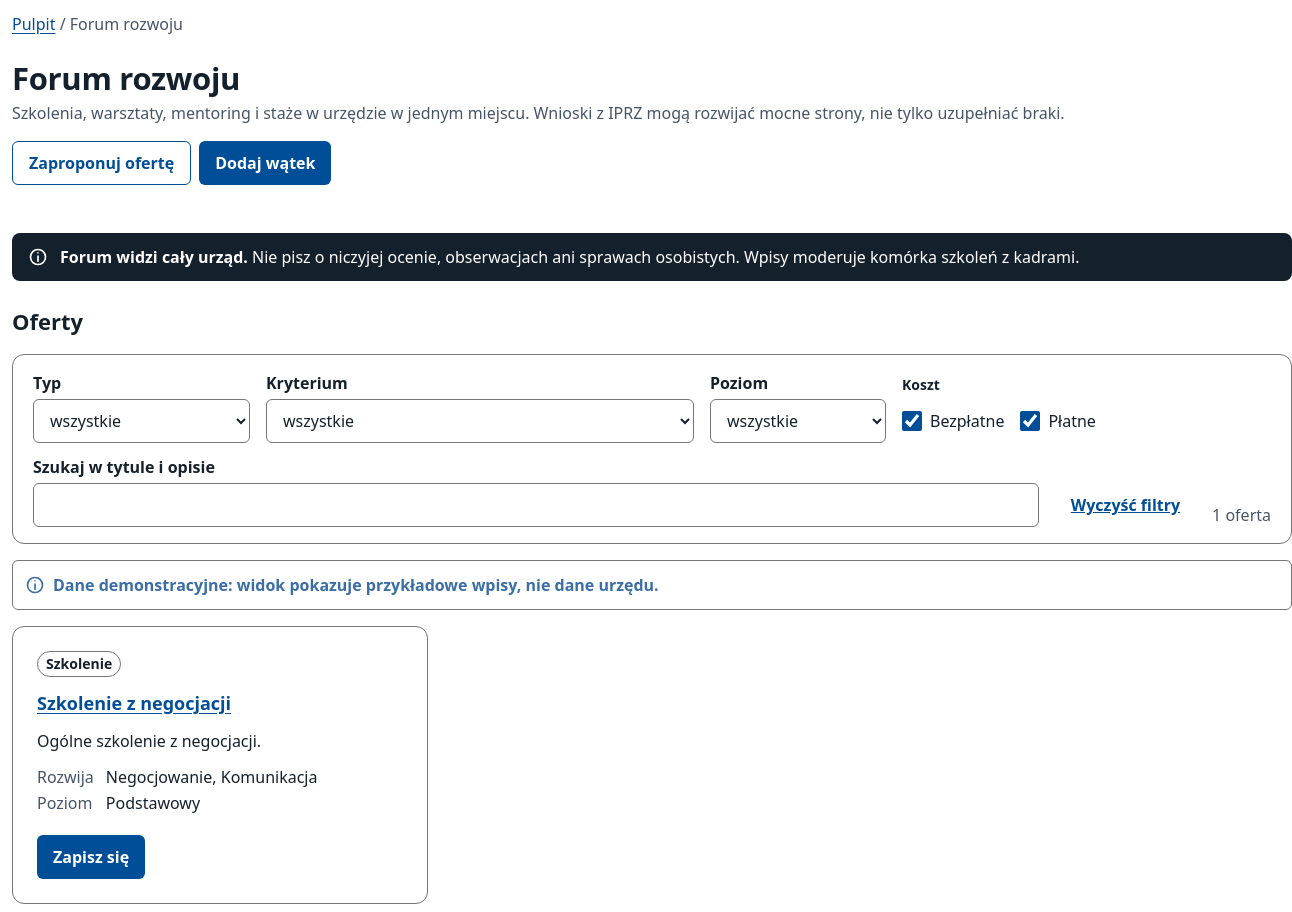
Test case: GrowthPage catalog › keeps the filters when an entry is opened and the user comes back
The width and height of the screenshot is (1292, 912).
Select "Szkolenie" in the dropdown labelled "Typ" at (142, 421), box [33, 399, 250, 443]
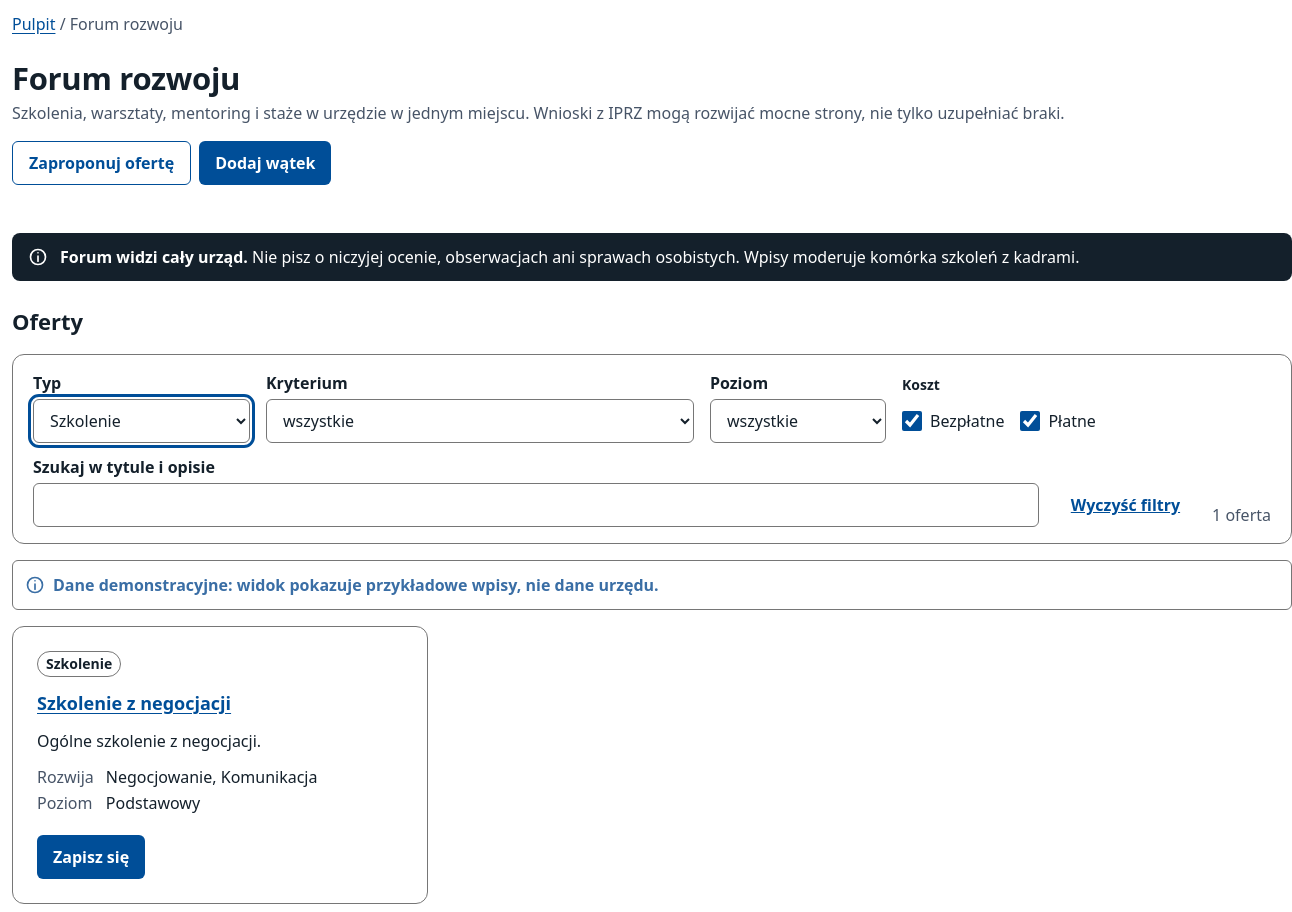
Click the link "Szkolenie z negocjacji".
click(134, 703)  # box [37, 691, 231, 715]
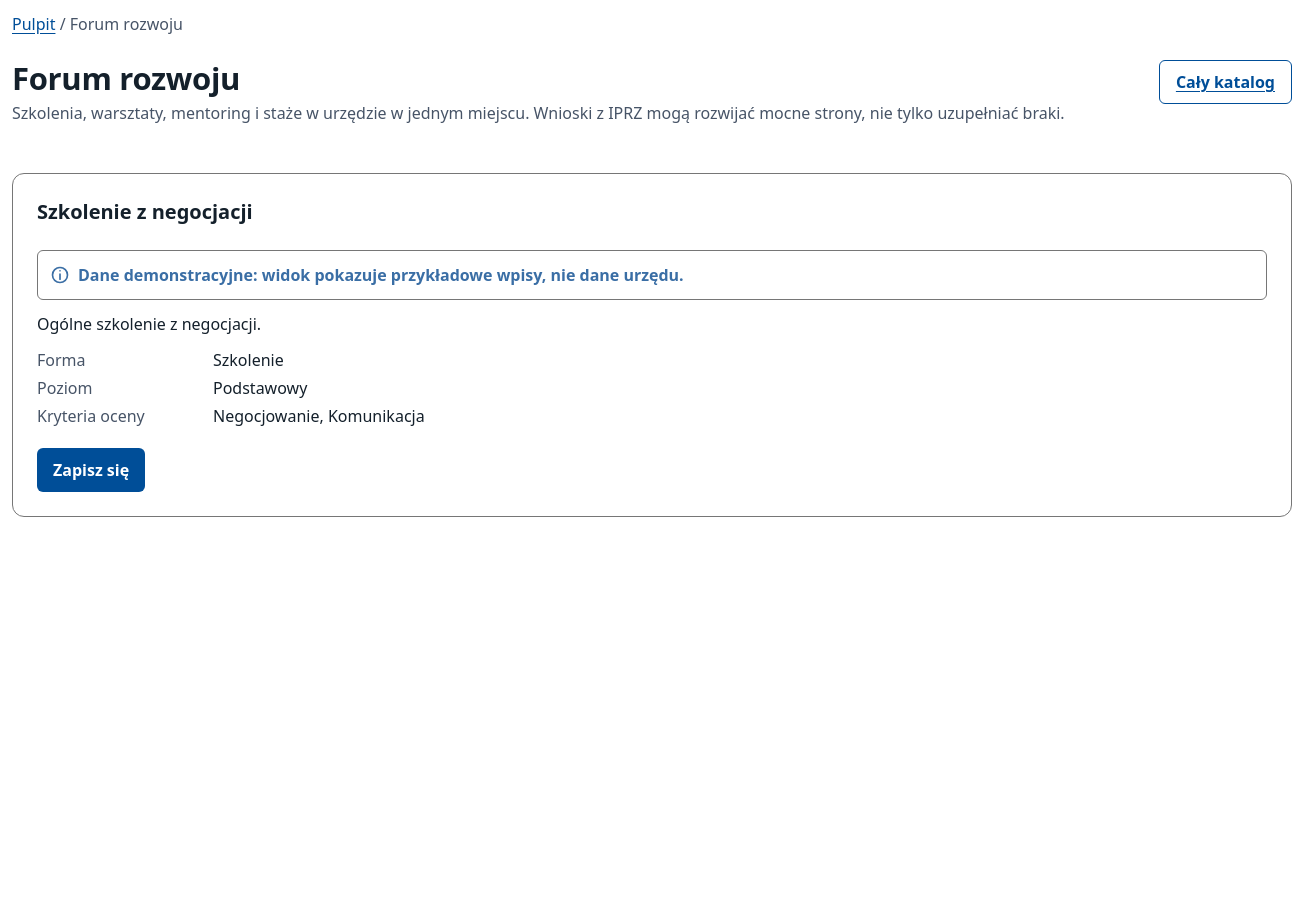
Result: the label labelled "Typ" is gone
Click the link "Cały katalog".
click(1225, 82)  # box [1159, 60, 1291, 104]
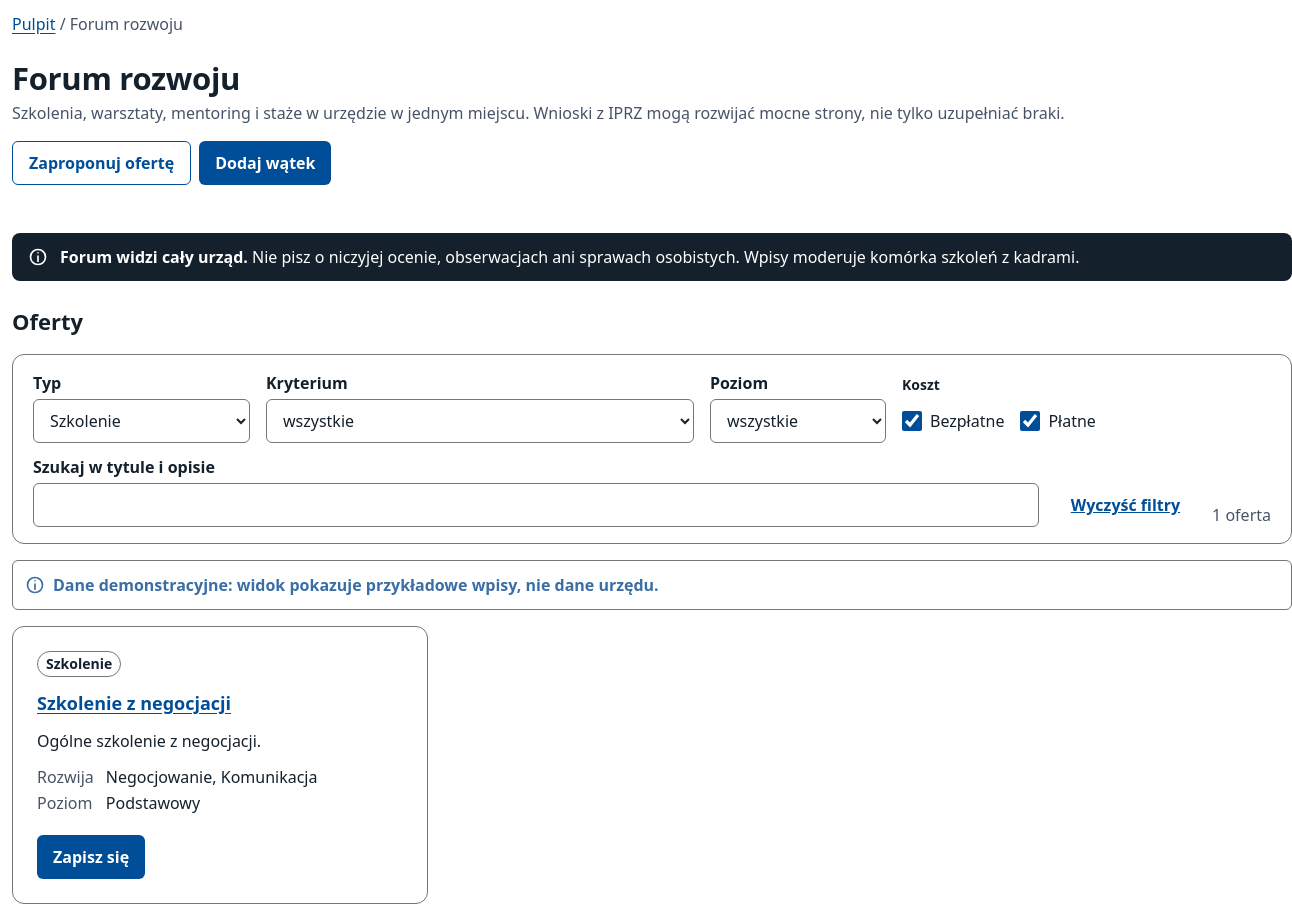
Result: the dropdown labelled "Typ" shows "Szkolenie" at [33, 399, 250, 443]
